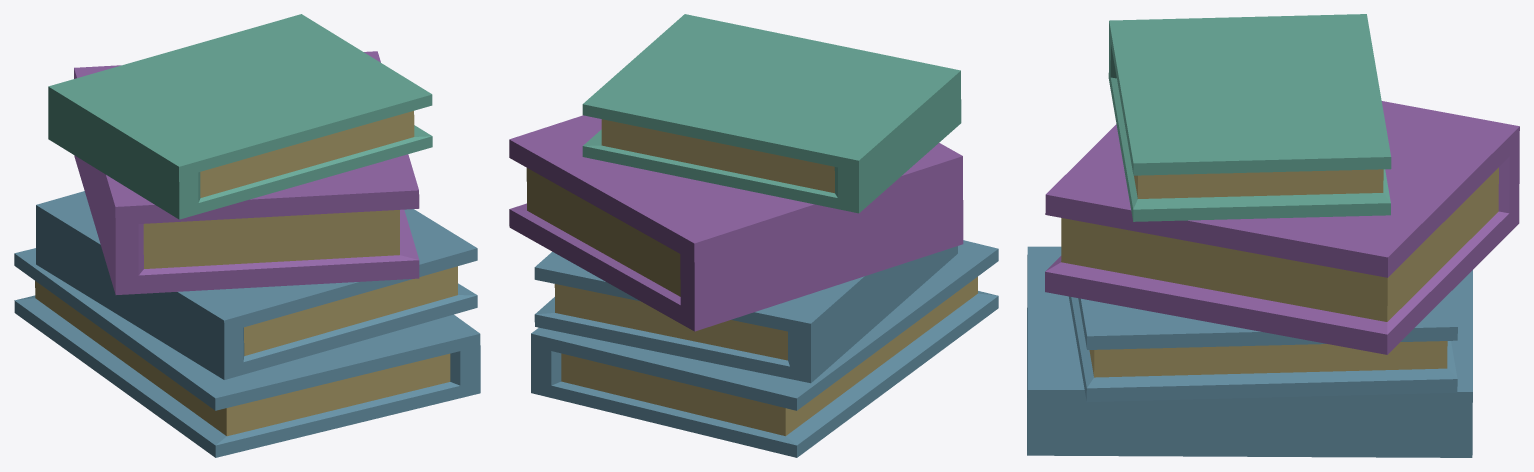
File: bookstack1.fbx
The picture shows the model from 3 angles, left to right: view 1: azimuth 30°, elevation 25°; view 2: azimuth 150°, elevation 25°; view 3: azimuth 270°, elevation 25°; orthographic projection. The views are drawn at different scales.
Visible parts, largest first — view 1: book_pile; view 2: book_pile; view 3: book_pile.
Boxes of the visible parts, x1,y1,x2,y2 form: book_pile: (14, 14, 480, 457); book_pile: (509, 14, 998, 457); book_pile: (1027, 14, 1519, 457).
Size of the model in its own units: 16.82 by 11.97 by 18.15.
